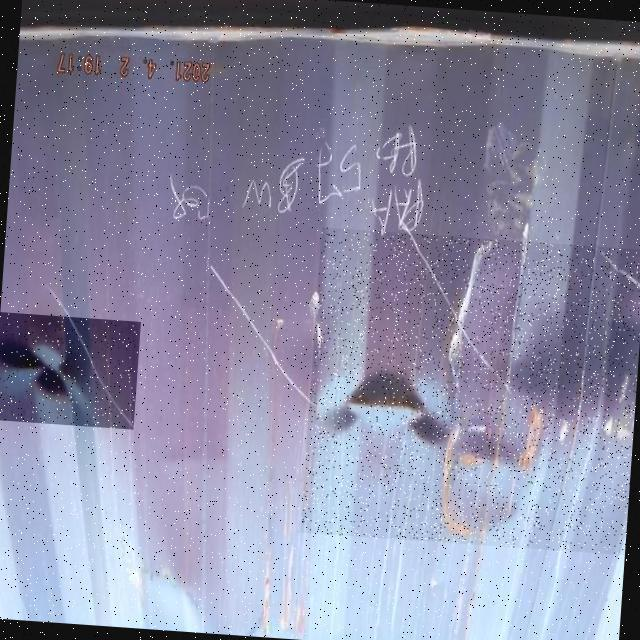dent: (301, 228, 640, 556), (1, 312, 141, 430)
